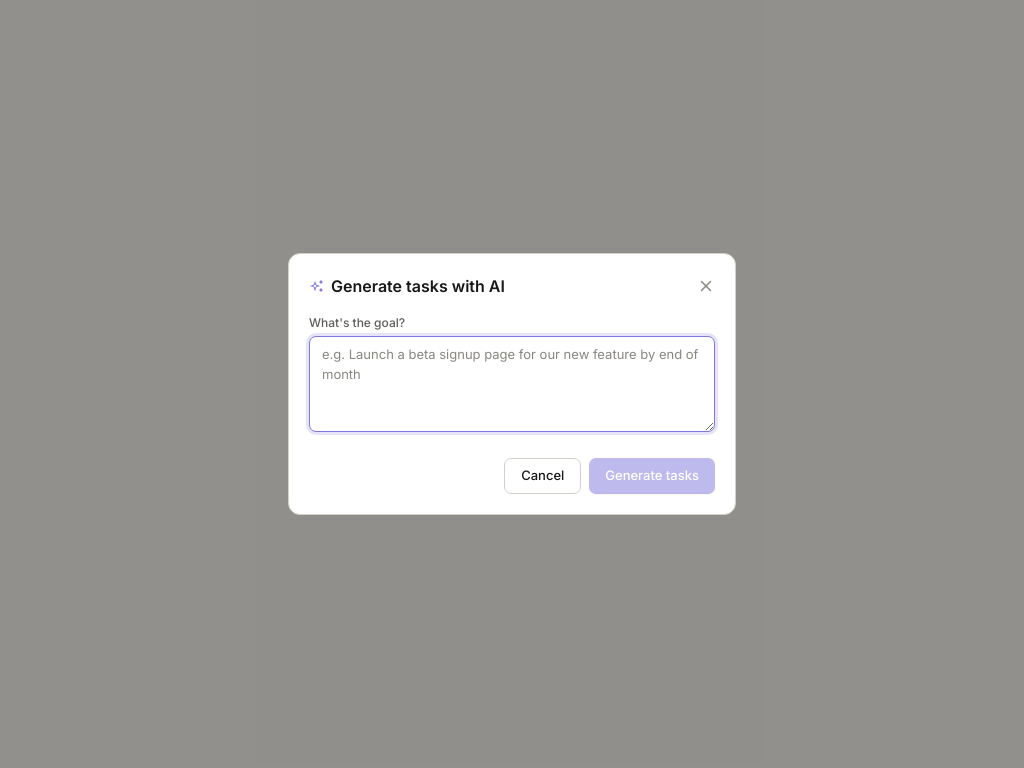
Test: GenerateTasksModal › shows a friendly message when AI is not configured (503)
Type "Do something" into the text box labelled "What's the goal?". click: (512, 384)
box: [309,336,715,432]
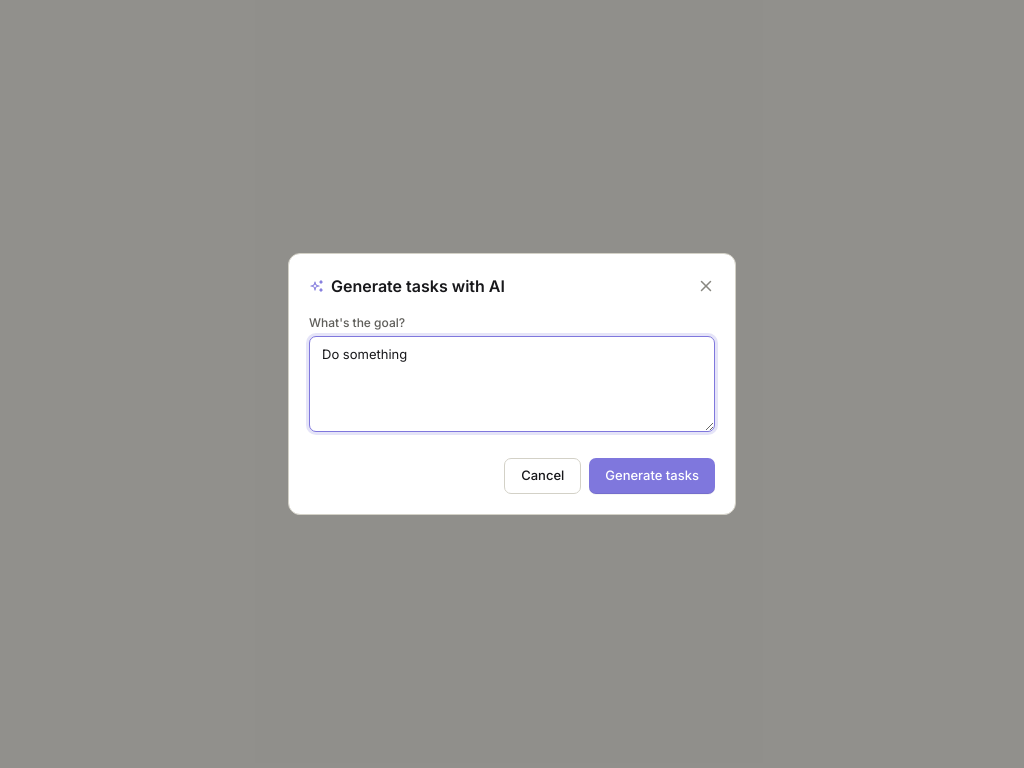
Click the button "Generate tasks". click: (652, 476)
box: [589,458,715,494]
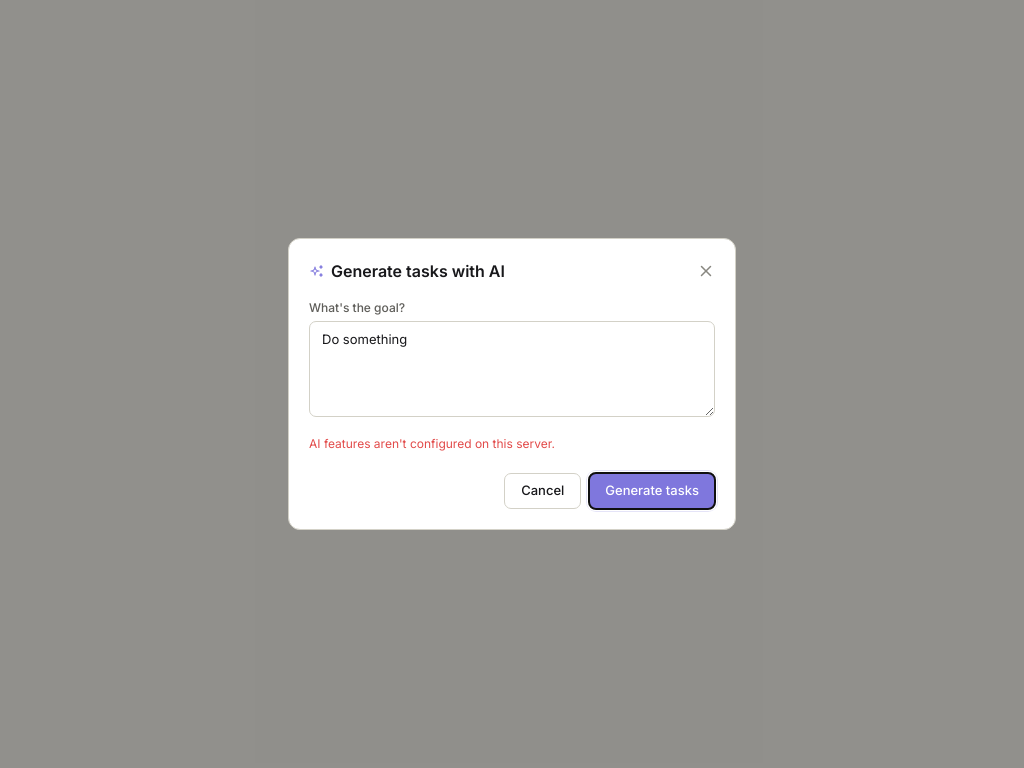
Now the text "AI features aren't configured on this server." is shown, box [309,436,555,451]
